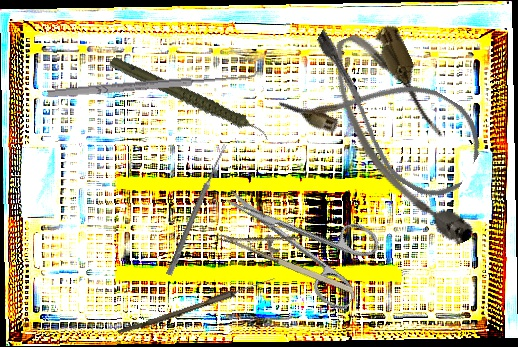Cannula: (317, 17, 489, 265), (276, 24, 496, 210)
Handpiece: (107, 27, 272, 174)
Hook Surgical: (46, 61, 258, 102)
Iris Scissors: (207, 157, 389, 314)
Needle Holder: (215, 206, 364, 298)
Surgical Spoon: (117, 273, 277, 339), (166, 142, 228, 277)
